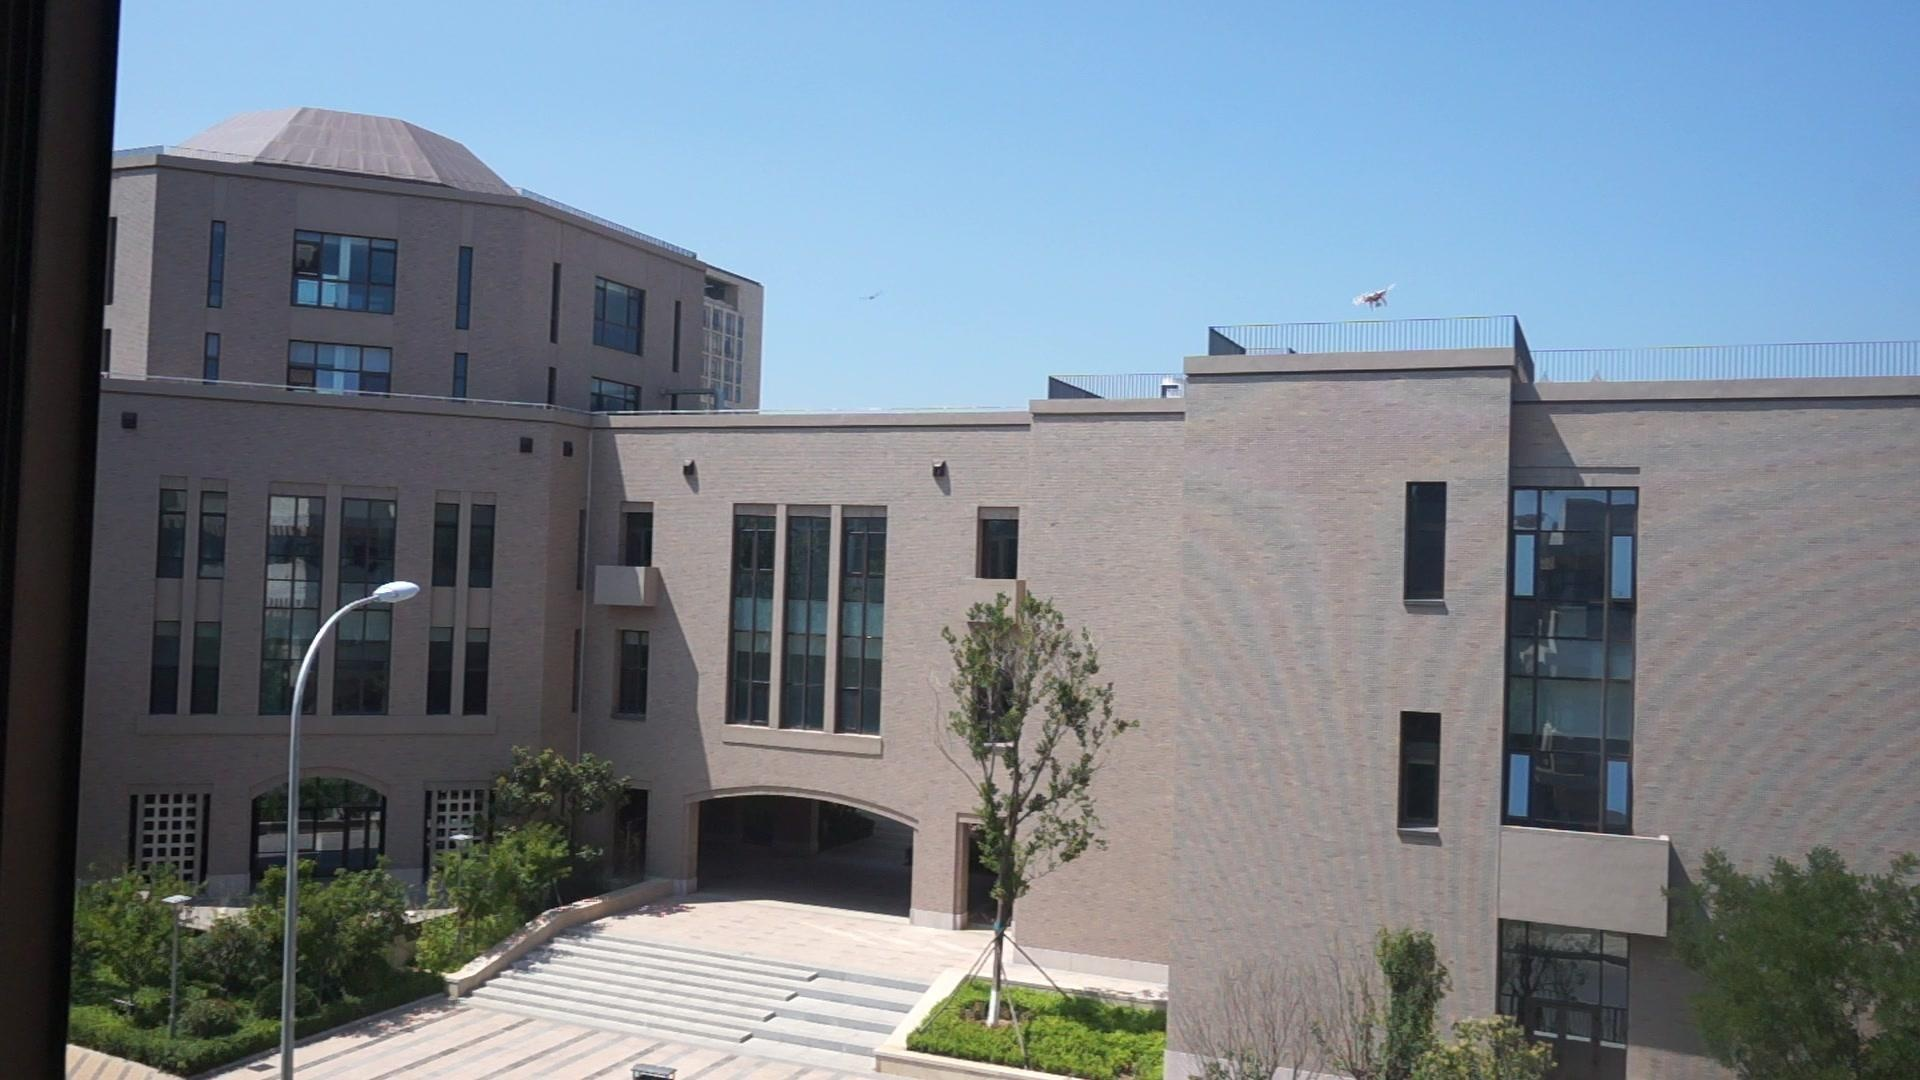UAV: (1356, 281, 1395, 314)
